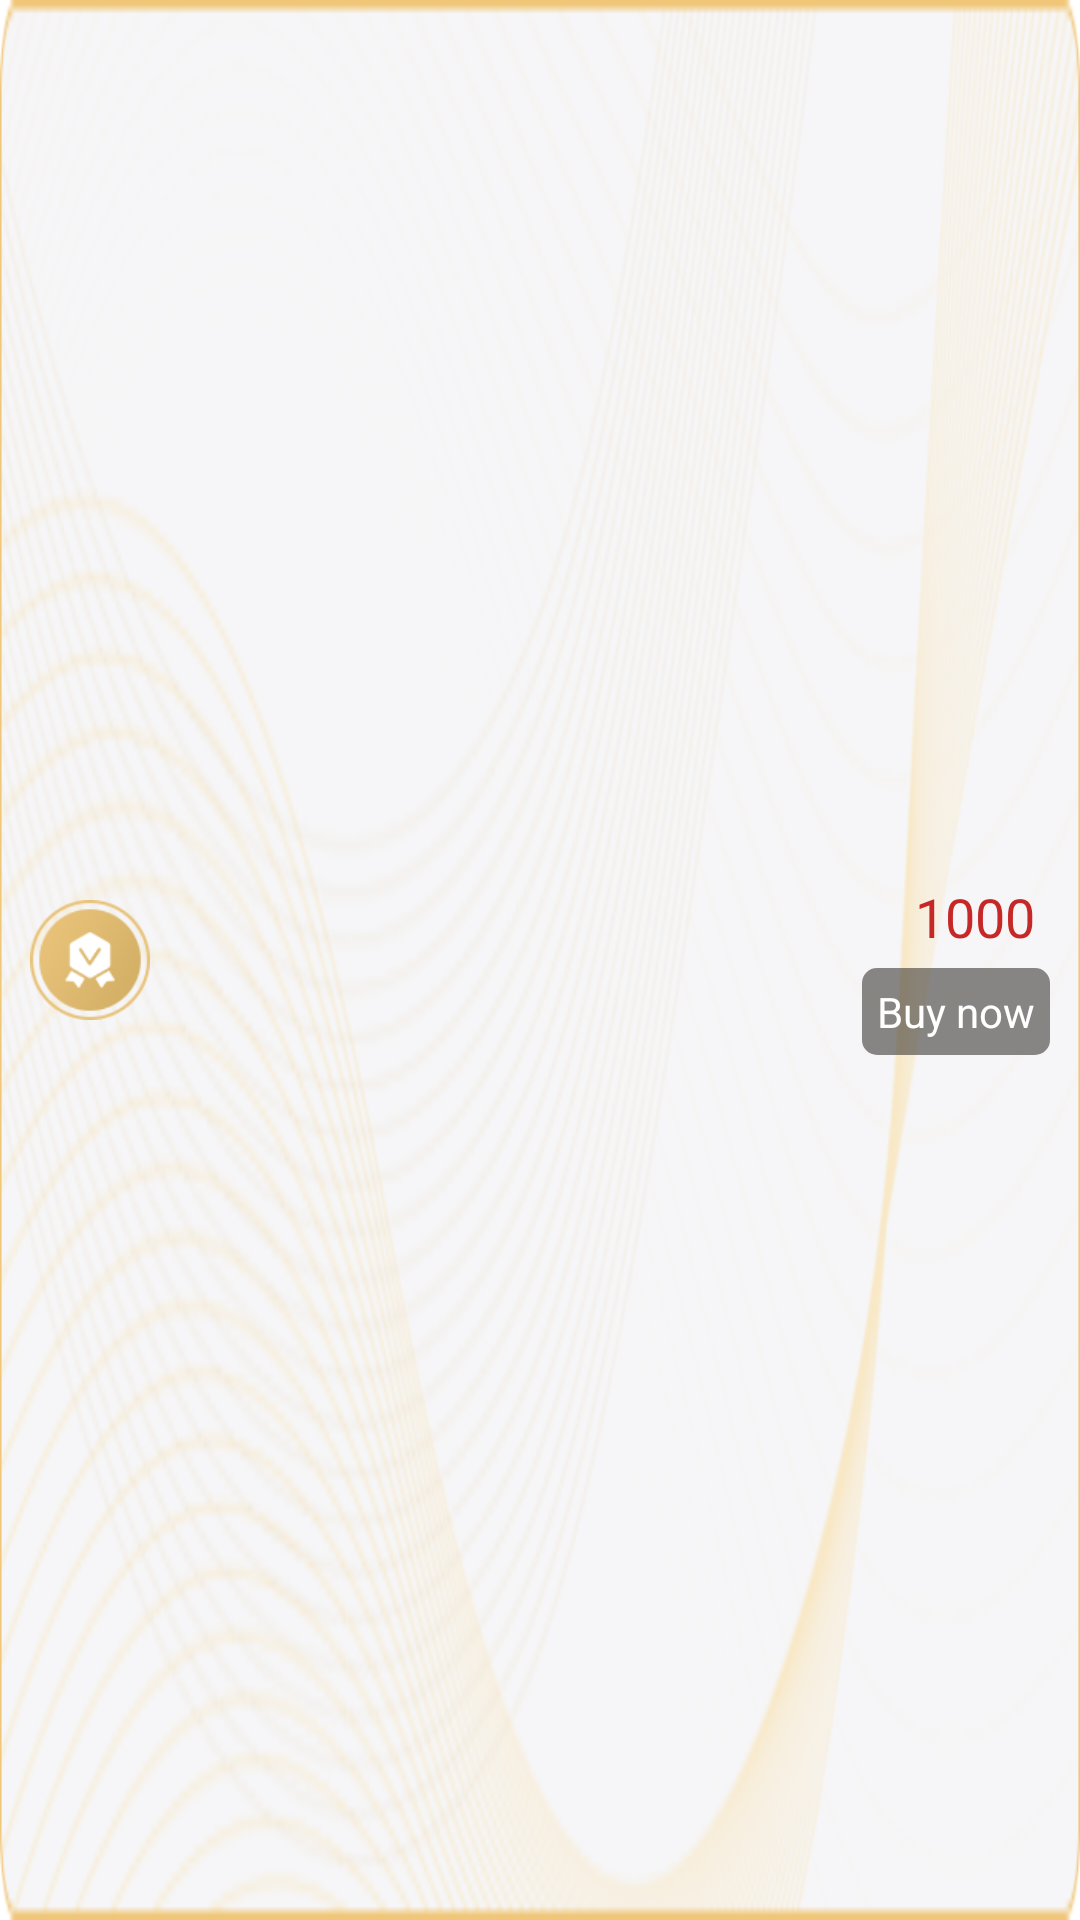

Screen size 1080px x 1920px. Icon name, then its center in pixels as point (x, y):
member: point (90, 960)
